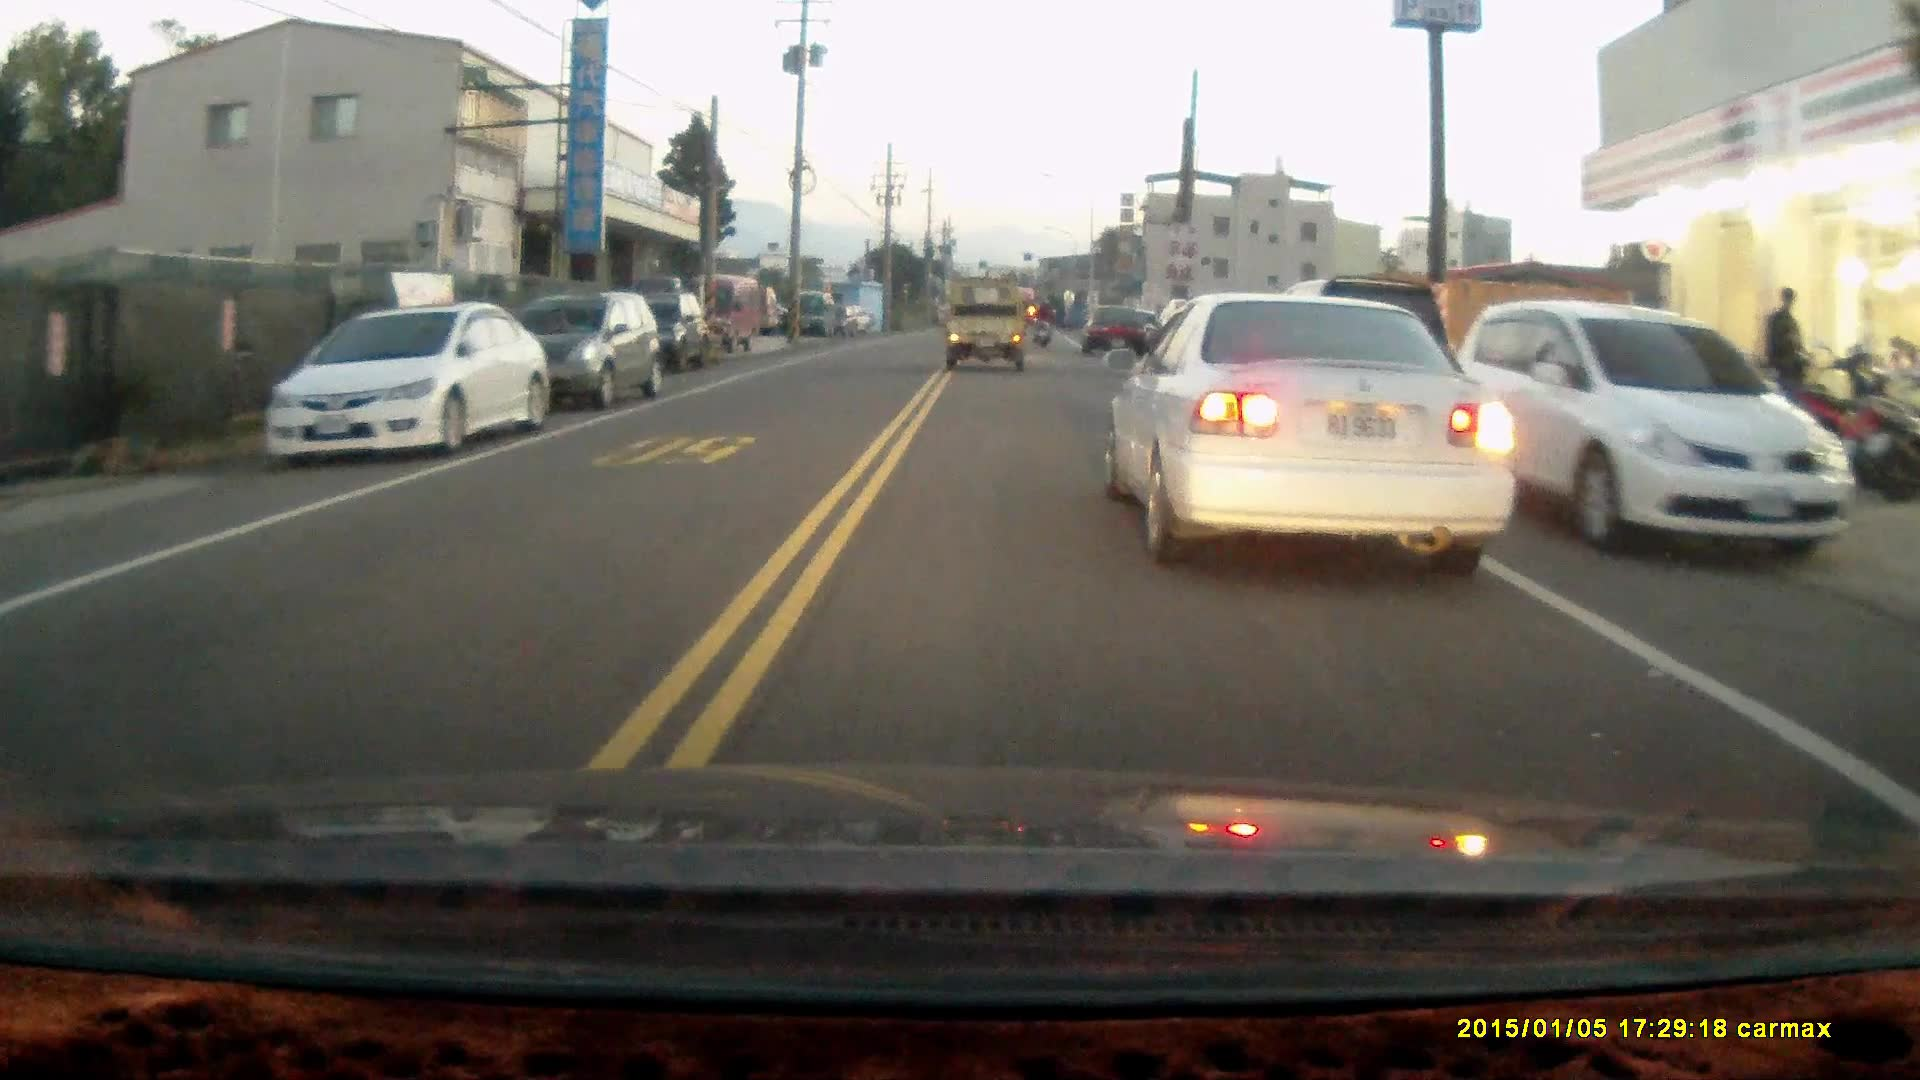pedestrian: (1760, 284, 1805, 398)
rider: (1027, 296, 1054, 344)
vehicle: (1107, 290, 1515, 571), (1446, 296, 1847, 552), (263, 298, 554, 459), (477, 286, 658, 407), (618, 289, 715, 376), (943, 272, 1029, 369), (695, 273, 771, 348), (1085, 304, 1155, 352)
